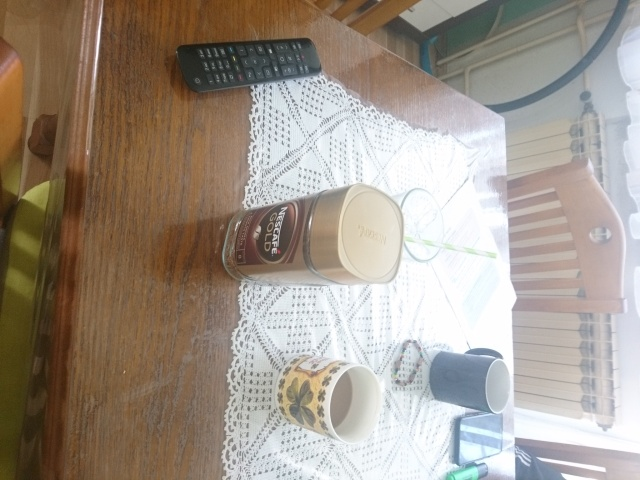Nescafe Gold 225g: (217, 180, 407, 288)
